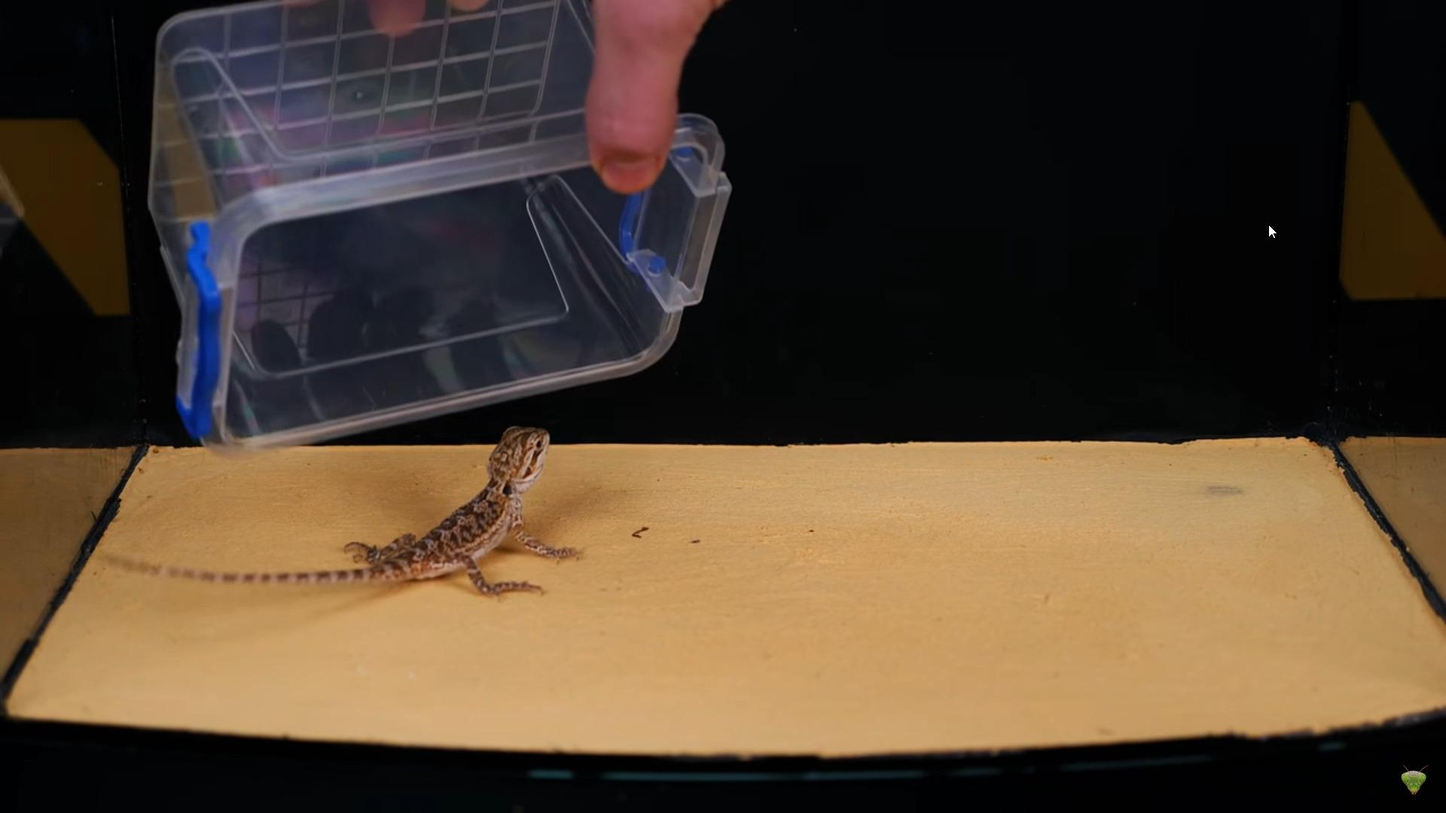lizard: (101, 423, 601, 601)
